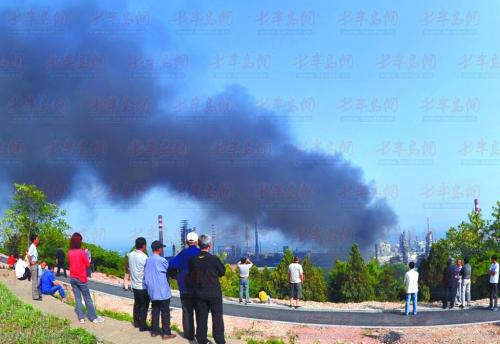smoke: (2, 5, 398, 239)
